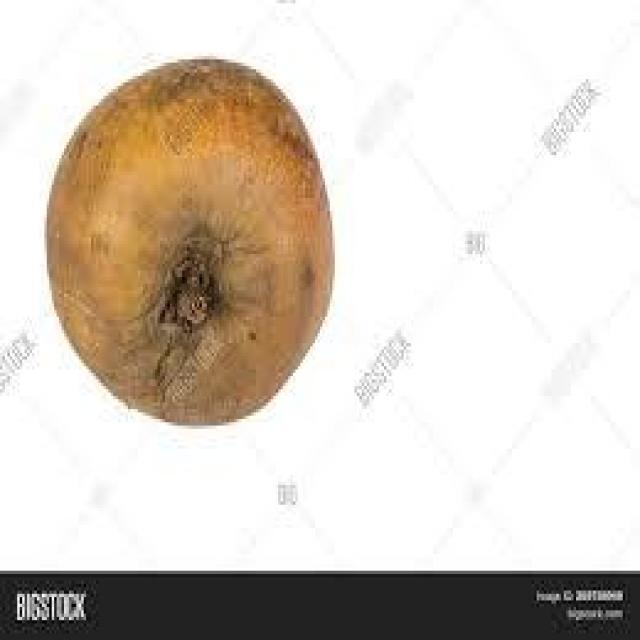Rotten: (45, 55, 336, 432)
